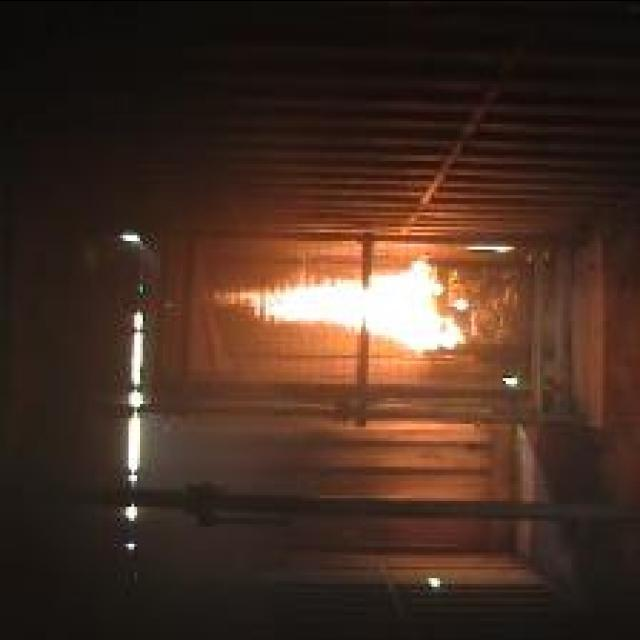Fire: (212, 258, 466, 352)
